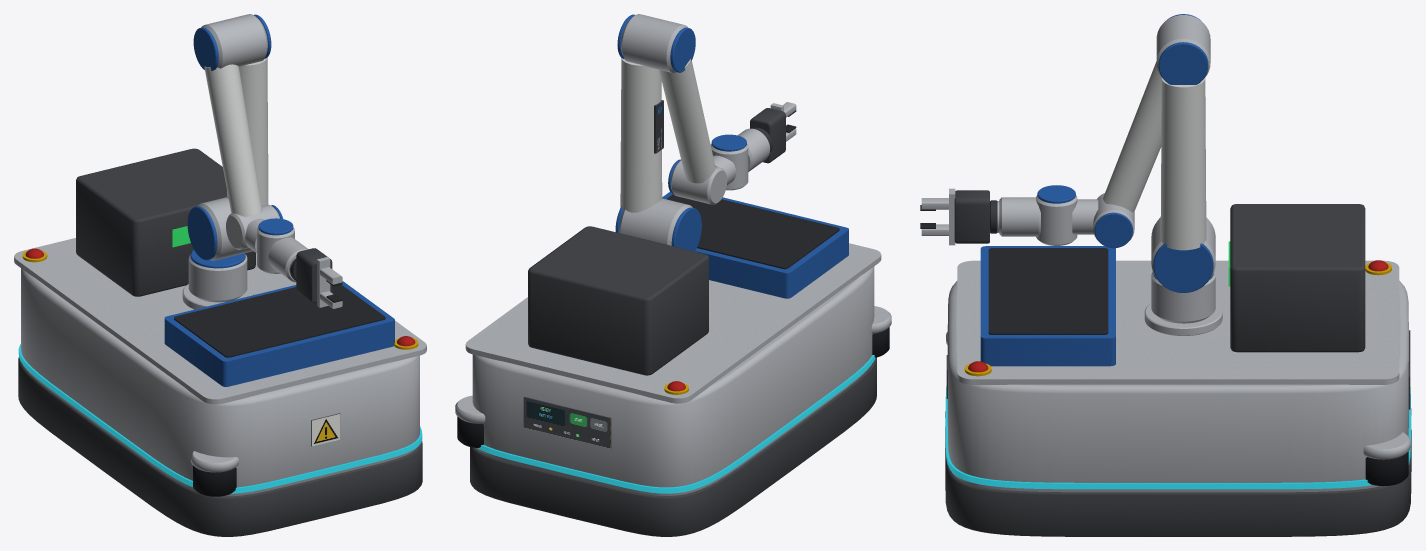
The model's file is amr.glb.
3 renders of one model, left to right at view 1: azimuth 30°, elevation 25°; view 2: azimuth 150°, elevation 25°; view 3: azimuth 270°, elevation 25°, orthographic. The views are drawn at different scales.
Parts seen in each view (by area): view 1: Arm gripper, Arm joints, Arm joint caps, Controller box and parts tray, Arm links, Status light band, Laser scanners, Arm label, Emergency stops; view 2: Arm gripper, Arm joints, Arm links, Arm joint caps, Controller box and parts tray, Status light band, Control panel, Laser scanners; view 3: Arm gripper, Arm joints, Arm joint caps, Arm links, Controller box and parts tray, Status light band, Laser scanners, Emergency stops.
Part boxes in pixels (x1=…): Arm gripper: x1=14, y1=148, x2=426, y2=536; Arm joints: x1=21, y1=14, x2=419, y2=496; Arm joint caps: x1=164, y1=14, x2=394, y2=386; Controller box and parts tray: x1=172, y1=226, x2=385, y2=357; Arm links: x1=204, y1=57, x2=268, y2=216; Status light band: x1=18, y1=344, x2=422, y2=493; Laser scanners: x1=193, y1=465, x2=236, y2=496; Arm label: x1=312, y1=413, x2=340, y2=446; Emergency stops: x1=22, y1=248, x2=418, y2=349; Arm gripper: x1=465, y1=100, x2=881, y2=536; Arm joints: x1=455, y1=14, x2=891, y2=495; Arm links: x1=620, y1=58, x2=715, y2=212; Arm joint caps: x1=615, y1=14, x2=848, y2=298; Controller box and parts tray: x1=666, y1=194, x2=839, y2=269; Status light band: x1=478, y1=355, x2=875, y2=493; Control panel: x1=523, y1=397, x2=610, y2=448; Laser scanners: x1=457, y1=327, x2=889, y2=447; Arm gripper: x1=920, y1=188, x2=1411, y2=536; Arm joints: x1=946, y1=15, x2=1410, y2=492; Arm joint caps: x1=980, y1=14, x2=1213, y2=366; Arm links: x1=1103, y1=61, x2=1206, y2=250; Controller box and parts tray: x1=988, y1=241, x2=1230, y2=334; Status light band: x1=945, y1=386, x2=1411, y2=489; Laser scanners: x1=1365, y1=451, x2=1408, y2=486; Emergency stops: x1=964, y1=260, x2=1391, y2=376.
Bounding box in the file's own units: 0.5875 × 0.99 × 0.9446.
16 materials, 16 textured.
